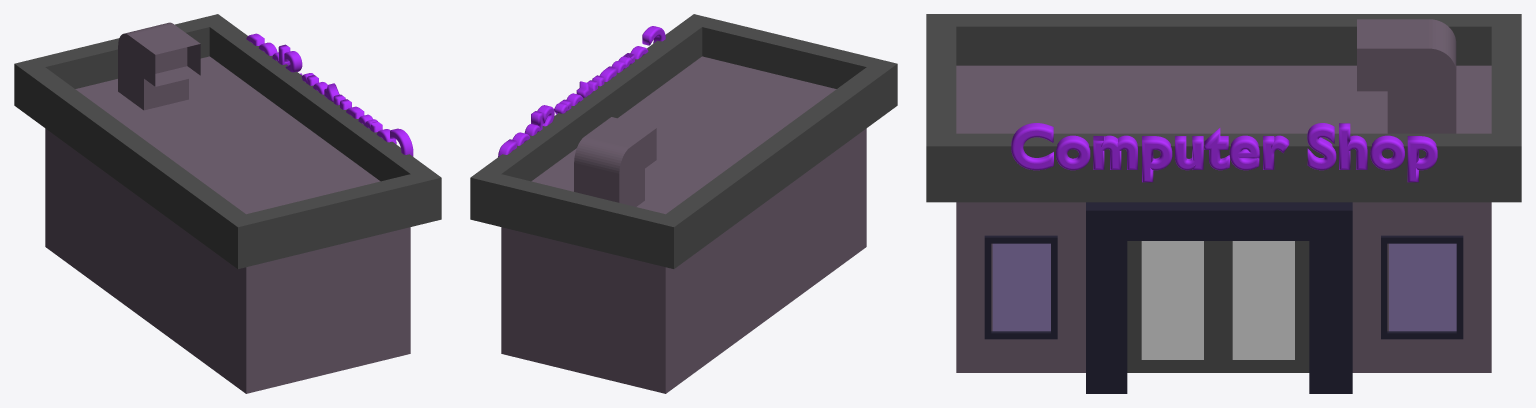
File: Computer_Shop.fbx
3 views of the same model, side by side, from view 1: azimuth 30°, elevation 25°; view 2: azimuth 150°, elevation 25°; view 3: azimuth 270°, elevation 25° (orthographic). The views are drawn at different scales.
Parts seen in each view (by area): view 1: Cube.017, Text; view 2: Cube.017, Text; view 3: Cube.017, Text.
Boxes of the visible parts, box(x1,y1,x2,y2) form: Cube.017: box(14, 14, 441, 393); Text: box(246, 33, 413, 156); Cube.017: box(470, 14, 897, 393); Text: box(498, 26, 665, 156); Cube.017: box(926, 14, 1521, 393); Text: box(1011, 123, 1437, 182).
Bounding box in the file's own units: 235 × 223 × 422.
